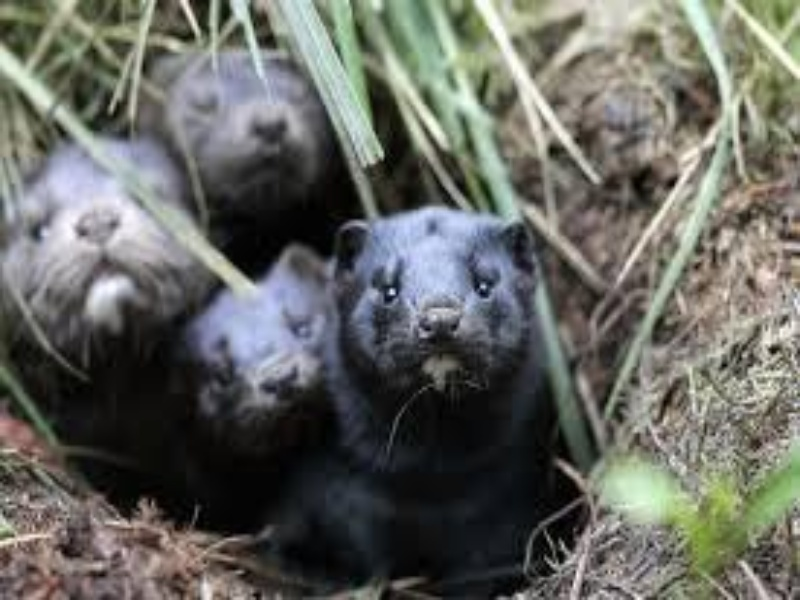minkish: (274, 209, 552, 570), (119, 239, 327, 534), (1, 130, 209, 399), (152, 51, 329, 218)
